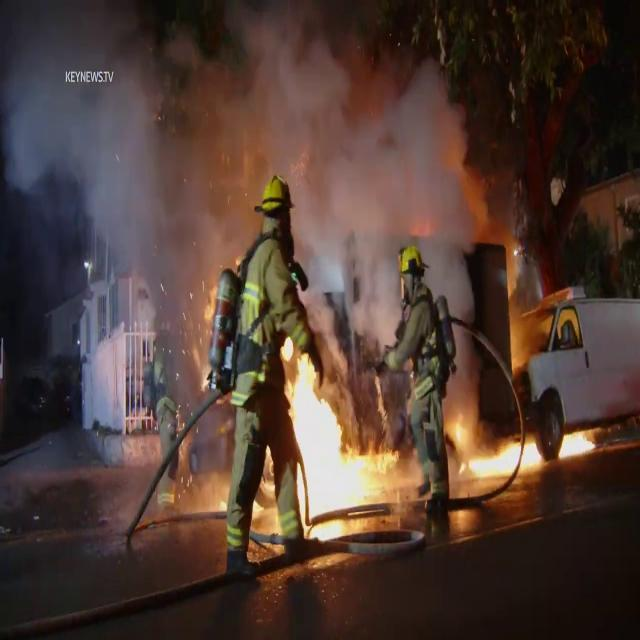Fire: (274, 342, 386, 518), (458, 426, 544, 486), (556, 421, 602, 466)
Smoke: (0, 0, 487, 333)
